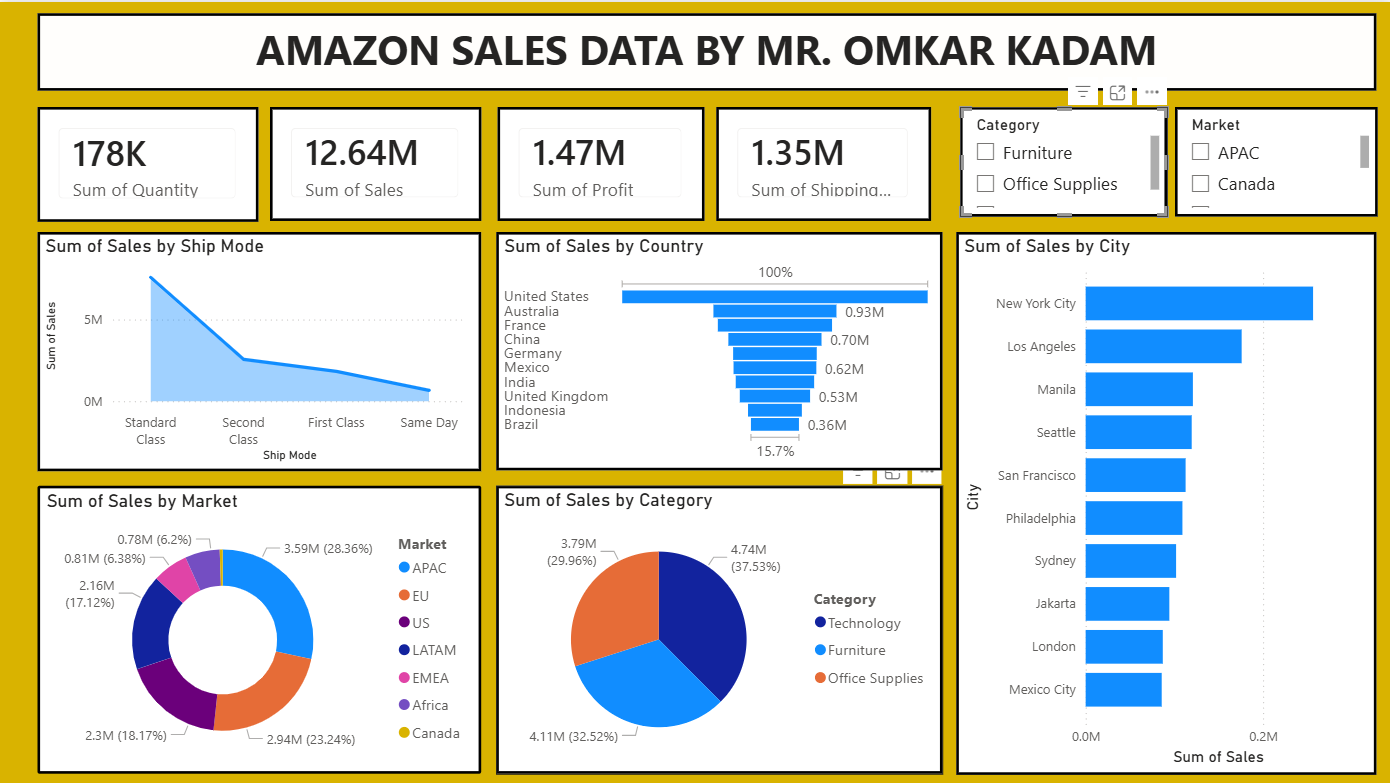

Layout of this report page (visuals, bound fields, positions):
{"tool":"powerbi","page":{"name":"Page 1","canvas":[1280,720],"ordinal":0},"visuals":[{"type":"pieChart","fields":{"Category":["Orders.Category"],"Y":["Sum(Orders.Sales)"]},"box":[456.5,445.3,410.5,265],"z":0},{"type":"donutChart","fields":{"Category":["Orders.Market"],"Y":["Sum(Orders.Sales)"]},"box":[34.8,445.3,408,265],"z":1000},{"type":"areaChart","fields":{"Category":["Orders.Ship Mode"],"Y":["Sum(Orders.Sales)"]},"box":[34.8,211.5,408,220.2],"z":2000},{"type":"slicer","fields":{"Values":["Orders.Market"]},"box":[1080.2,96.5,186,101.2],"z":3000},{"type":"funnel","fields":{"Category":["Orders.Country"],"Y":["Sum(Orders.Sales)"]},"box":[456.5,211.5,410.5,218.9],"z":4000},{"type":"textbox","box":[34.9,10.5,1231.4,70.9],"z":5000},{"type":"cardVisual","fields":{"Data":["Sum(Orders.Quantity)"]},"box":[34.9,96.5,203.5,105.8],"z":6000},{"type":"cardVisual","fields":{"Data":["Sum(Orders.Sales)"]},"box":[248.8,96.5,194.2,104.7],"z":7000},{"type":"cardVisual","fields":{"Data":["Sum(Orders.Profit)"]},"box":[457,96.5,190.7,104.7],"z":8000},{"type":"cardVisual","fields":{"Data":["Sum(Orders.Shipping Cost)"]},"box":[658.1,96.5,197.7,104.7],"z":9000},{"type":"slicer","fields":{"Values":["Orders.Category"]},"box":[882.6,96.5,190.7,101.2],"z":10000},{"type":"barChart","fields":{"Y":["Sum(Orders.Sales)"],"Category":["Orders.City"]},"box":[879.8,211,386.5,499.4],"z":11000}]}

Visuals, with their boxes in screenshot pixels (x1, y1, x2, y2), scaled from the page's 1280x720 canvas onto the 1390x783 screenshot:
pieChart - Orders.Category x Sum(Orders.Sales): (left=496, top=484, right=942, bottom=772)
donutChart - Orders.Market x Sum(Orders.Sales): (left=38, top=484, right=481, bottom=772)
areaChart - Orders.Ship Mode x Sum(Orders.Sales): (left=38, top=230, right=481, bottom=469)
slicer - Orders.Market: (left=1173, top=105, right=1375, bottom=215)
funnel - Orders.Country x Sum(Orders.Sales): (left=496, top=230, right=942, bottom=468)
textbox: (left=38, top=11, right=1375, bottom=89)
cardVisual - Sum(Orders.Quantity): (left=38, top=105, right=259, bottom=220)
cardVisual - Sum(Orders.Sales): (left=270, top=105, right=481, bottom=219)
cardVisual - Sum(Orders.Profit): (left=496, top=105, right=703, bottom=219)
cardVisual - Sum(Orders.Shipping Cost): (left=715, top=105, right=929, bottom=219)
slicer - Orders.Category: (left=958, top=105, right=1166, bottom=215)
barChart - Sum(Orders.Sales) x Orders.City: (left=955, top=229, right=1375, bottom=773)
